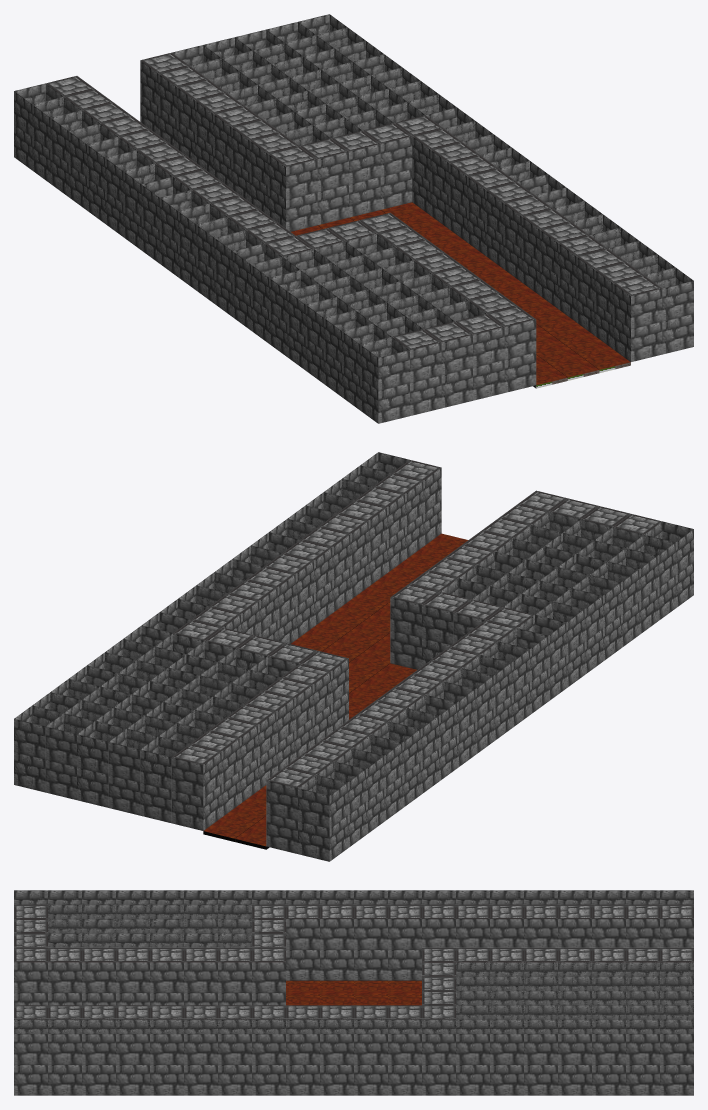
Rendered from HuntPocEnviroment.fbx.
The picture shows the model from 3 angles, top to bottom: view 1: azimuth 30°, elevation 25°; view 2: azimuth 150°, elevation 25°; view 3: azimuth 270°, elevation 25°; orthographic projection. The views are drawn at different scales.
Visible parts, largest first — view 1: Cube.041, Cube.037, Cube.126, Cube.098, Cube.111, Cube.036, Cube.095, Cube.097, Cube.074, Cube.096, Cube.075, Cube.202 (+110 smaller); view 2: Cube.041, Cube.124, Cube.145, Cube.125, Cube.183, Cube.169, Cube.168, Cube.146, Cube.029, Cube.182, Cube.136, Cube.126 (+110 smaller); view 3: Cube.041, Cube.100, Cube.101, Cube.102, Cube.103, Cube.198, Cube.186, Cube.188, Cube.190, Cube.197, Cube.191, Cube.189 (+124 smaller).
Part boxes in pixels (x1,y1,x2,y2): Cube.041: (291, 202, 630, 388); Cube.037: (612, 275, 662, 361); Cube.126: (360, 337, 409, 423); Cube.098: (267, 146, 317, 231); Cube.111: (391, 329, 441, 415); Cube.036: (487, 306, 536, 392); Cube.095: (362, 123, 412, 209); Cube.097: (300, 138, 348, 224); Cube.074: (455, 313, 504, 400); Cube.096: (331, 130, 380, 217); Cube.075: (423, 321, 472, 408); Cube.202: (644, 268, 693, 354); Cube.041: (203, 533, 467, 849); Cube.124: (171, 744, 221, 830); Cube.145: (298, 775, 347, 861); Cube.125: (266, 767, 316, 853); Cube.183: (14, 705, 63, 792); Cube.169: (77, 721, 126, 807); Cube.168: (108, 729, 157, 815); Cube.146: (140, 736, 189, 823); Cube.029: (390, 584, 439, 669); Cube.182: (45, 713, 94, 799); Cube.136: (516, 615, 566, 701); Cube.126: (644, 521, 693, 607); Cube.041: (286, 980, 421, 1005); Cube.100: (286, 904, 319, 980); Cube.101: (320, 904, 353, 980); Cube.102: (354, 904, 387, 980); Cube.103: (388, 904, 421, 980); Cube.198: (116, 1019, 149, 1095); Cube.186: (524, 1019, 557, 1095); Cube.188: (592, 1019, 625, 1095); Cube.190: (422, 1020, 455, 1095); Cube.197: (150, 1019, 183, 1095); Cube.191: (218, 1019, 251, 1095); Cube.189: (456, 1019, 489, 1095).
Size of the model in its own units: 1000 by 210 by 2000.
Materials: 200 (200 with a texture image).
